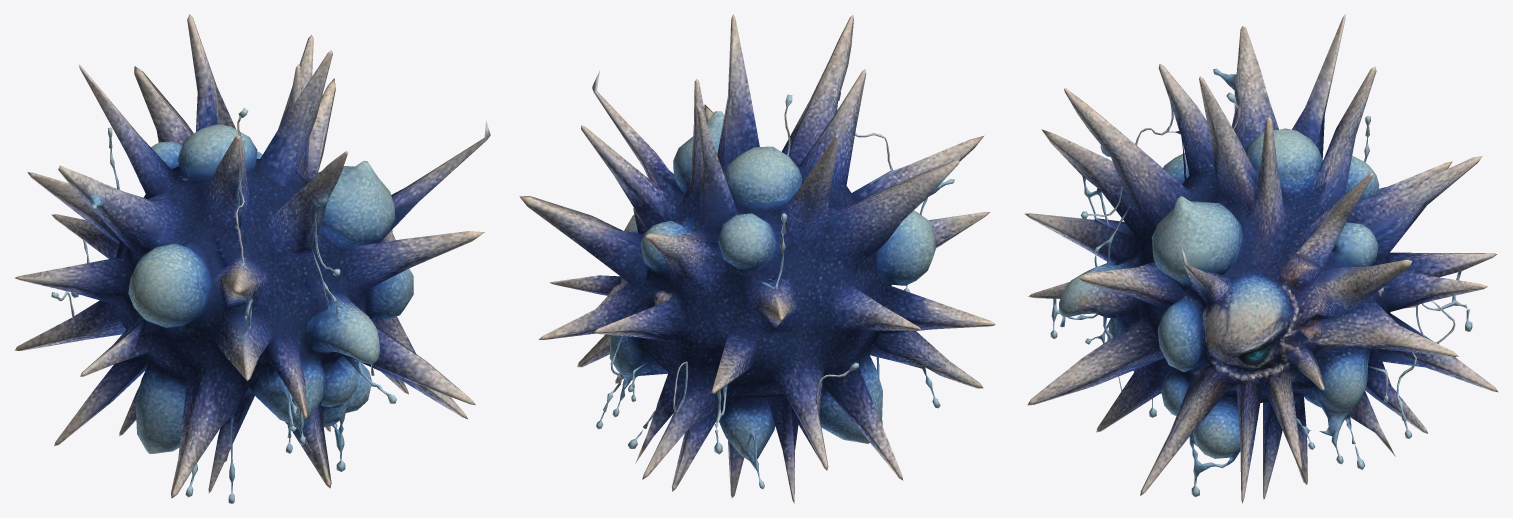
File: hadal-brine-needle-urchin-echo.glb
3 views of the same model, side by side, from view 1: azimuth 30°, elevation 25°; view 2: azimuth 150°, elevation 25°; view 3: azimuth 270°, elevation 25° (orthographic).
Parts seen in each view (by area): view 1: tripo_node_8c39b895-34df-42f2-967f-e01082b80b66; view 2: tripo_node_8c39b895-34df-42f2-967f-e01082b80b66; view 3: tripo_node_8c39b895-34df-42f2-967f-e01082b80b66.
Part boxes in pixels (x1,y1,x2,y2): tripo_node_8c39b895-34df-42f2-967f-e01082b80b66: (14,14,490,503); tripo_node_8c39b895-34df-42f2-967f-e01082b80b66: (519,14,995,503); tripo_node_8c39b895-34df-42f2-967f-e01082b80b66: (1024,14,1497,503).
Bounding box in the file's own units: 0.9746 × 0.998 × 0.9863.
Materials: 1 (1 with a texture image).
